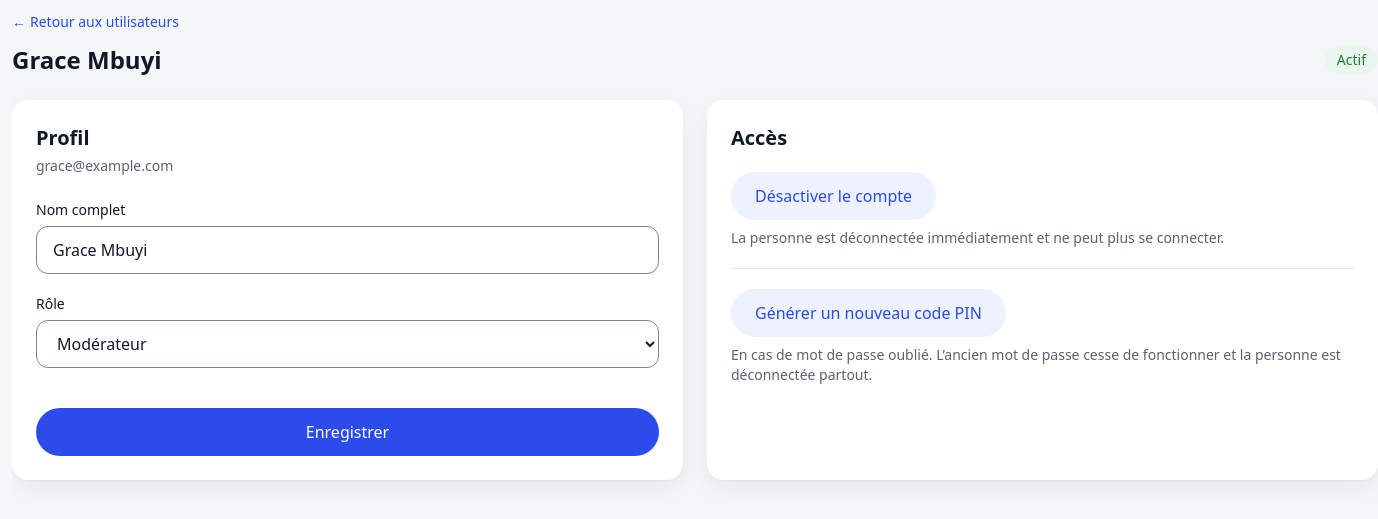
Test case: UserDetail (fr) › saves a new name and role
The width and height of the screenshot is (1378, 519).
Step 1. Replace the text in the field labelled "Nom complet" with "Grace M." → [348, 250], box [36,226,659,274]
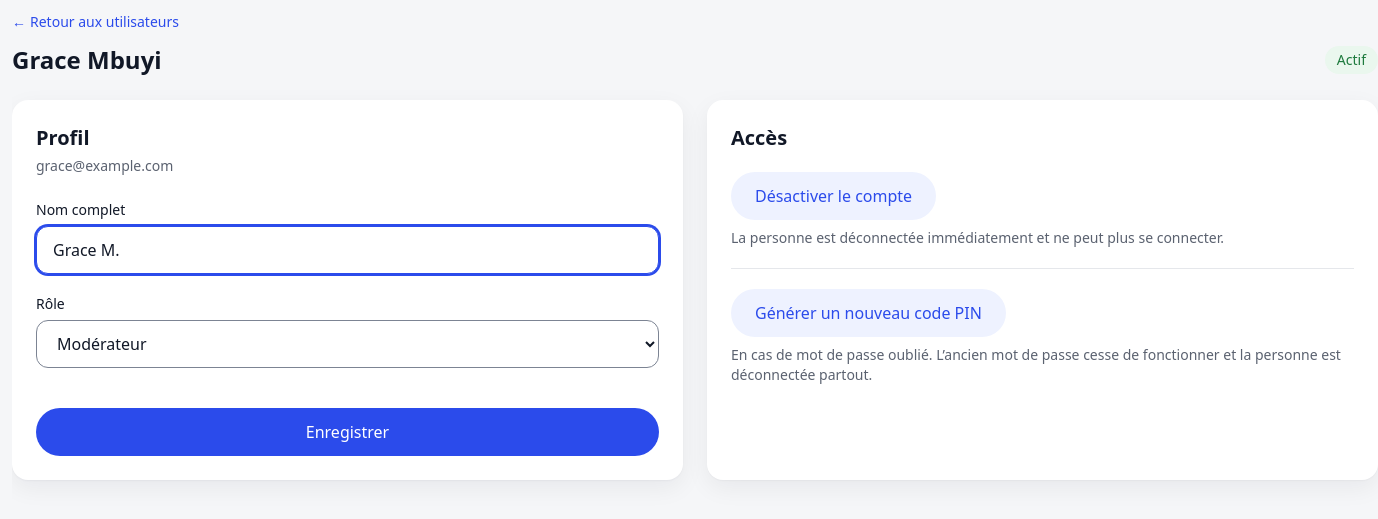
Step 2. Select "Agent d’assistance" in the dropdown labelled "Rôle" → [348, 344], box [36,320,659,368]
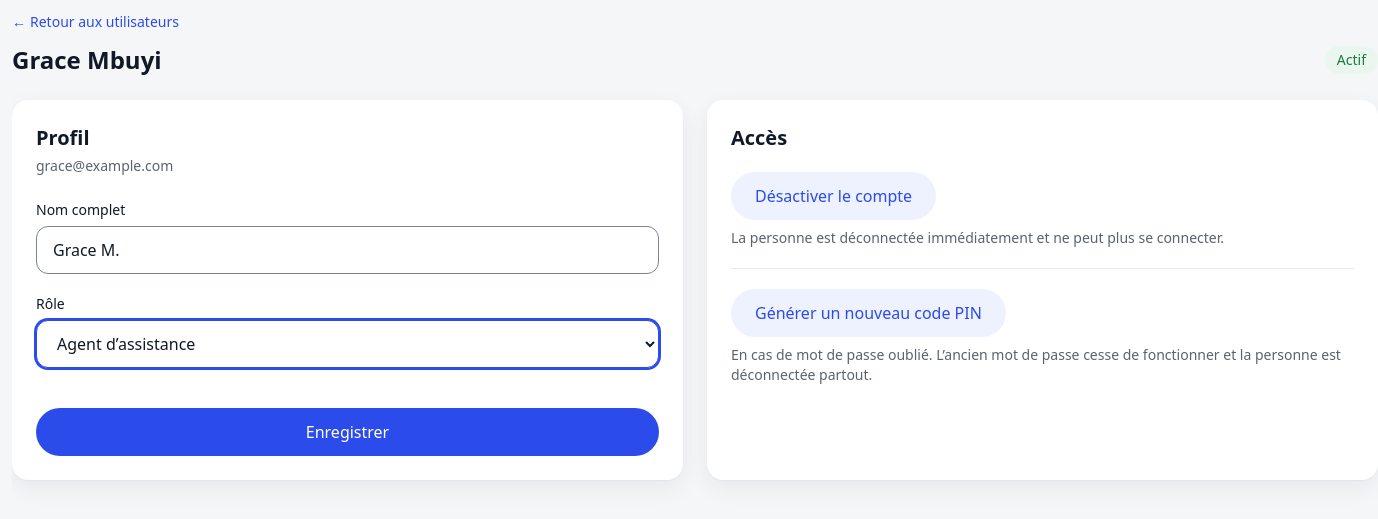
Step 3. Click the button "Enregistrer" → [348, 432], box [36,408,659,456]
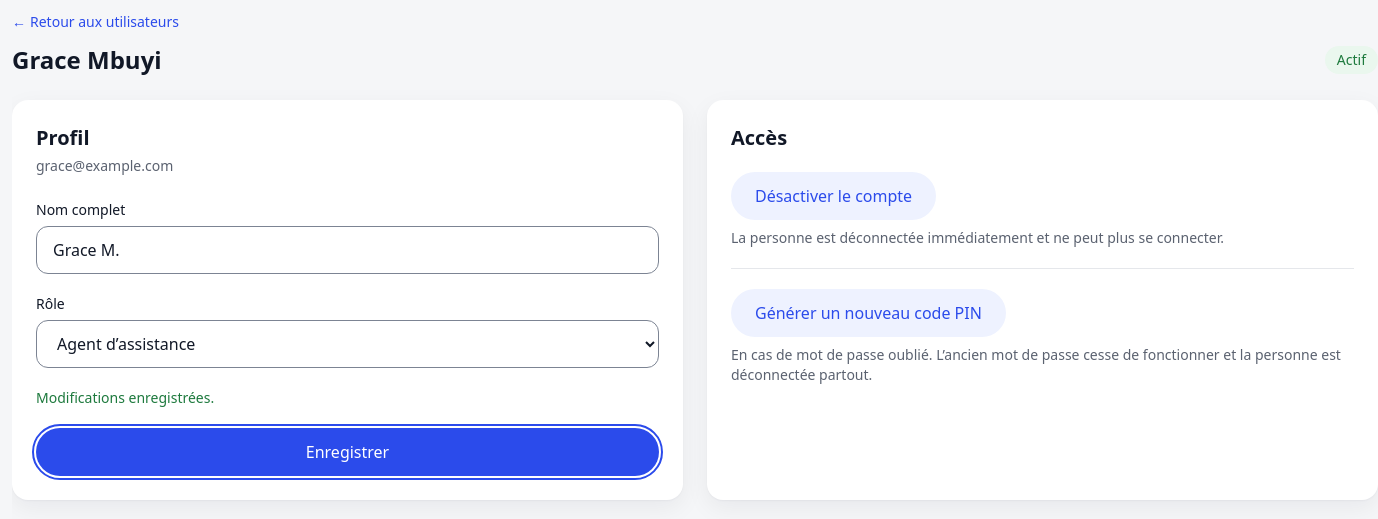
Result: the message reads "Modifications enregistrées." at [36,388,214,407]
